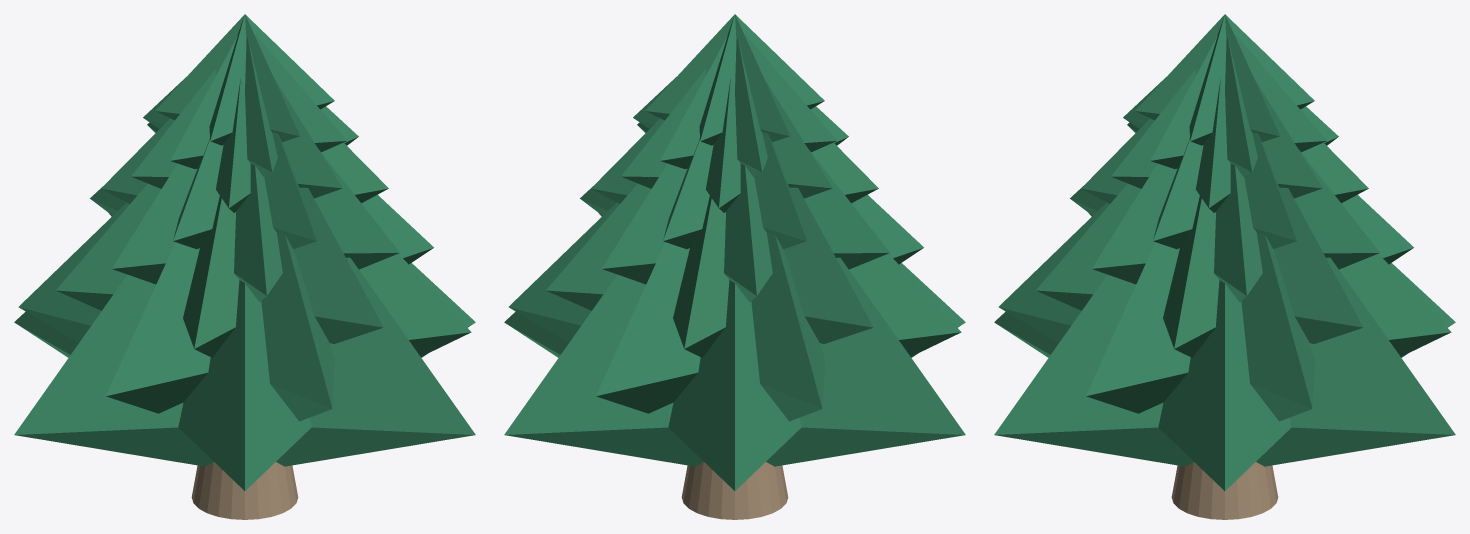
File: Tree.glb
The picture shows the model from 3 angles, left to right: view 1: azimuth 30°, elevation 25°; view 2: azimuth 150°, elevation 25°; view 3: azimuth 270°, elevation 25°; orthographic projection.
Visible parts, largest first — view 1: Mesh_Mesh_head_geo.001_lambert2SG.001; view 2: Mesh_Mesh_head_geo.001_lambert2SG.001; view 3: Mesh_Mesh_head_geo.001_lambert2SG.001.
Part boxes in pixels (<box>): Mesh_Mesh_head_geo.001_lambert2SG.001: <box>14,14,475,519</box>; Mesh_Mesh_head_geo.001_lambert2SG.001: <box>504,14,965,519</box>; Mesh_Mesh_head_geo.001_lambert2SG.001: <box>994,14,1455,519</box>.
Bounding box in the file's own units: 40 × 40 × 34.64.
